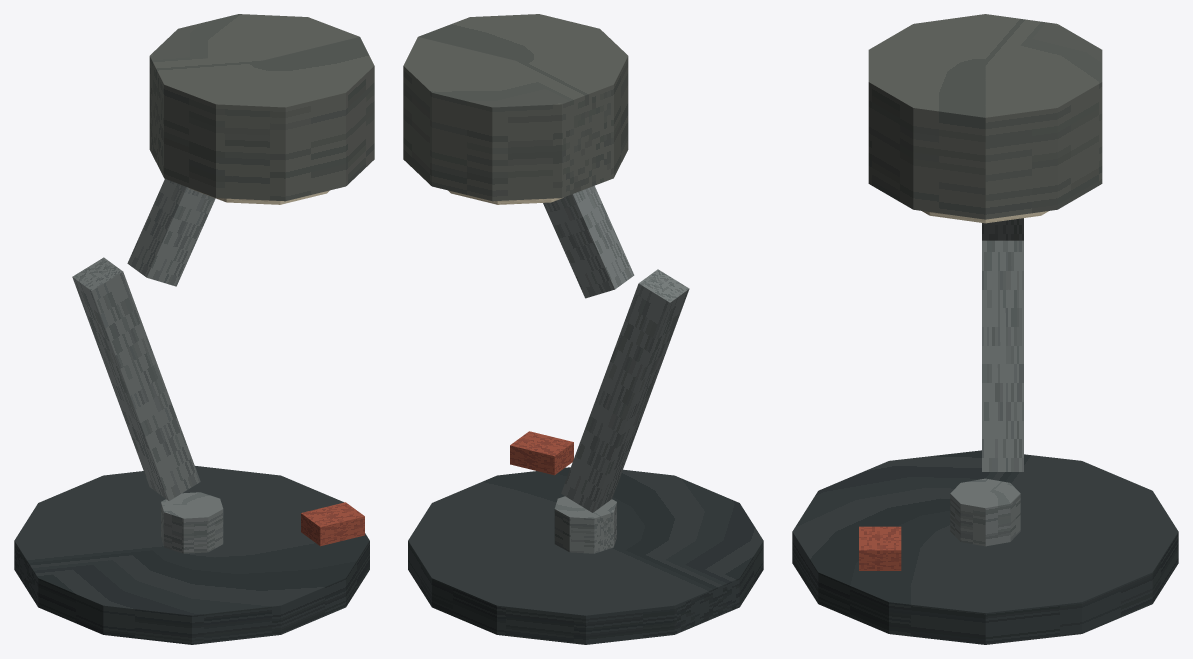
Rendered from lampara_escritorio.glb.
3 views of the same model, side by side, from view 1: azimuth 30°, elevation 25°; view 2: azimuth 150°, elevation 25°; view 3: azimuth 270°, elevation 25° (orthographic). The views are drawn at different scales.
Visible parts, largest first — view 1: lampara_escritorio; view 2: lampara_escritorio; view 3: lampara_escritorio.
Part boxes in pixels (bbox=[...]): lampara_escritorio: bbox=[14, 14, 374, 644]; lampara_escritorio: bbox=[403, 14, 763, 644]; lampara_escritorio: bbox=[792, 14, 1178, 644].
Bounding box in the file's own units: 0.3505 × 0.5121 × 0.3353.
Materials: 1 (1 with a texture image).
